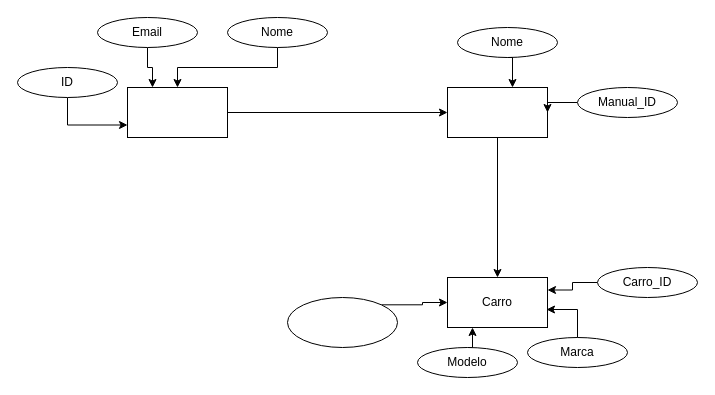
Image size: 715x395. Some labels were removed from this diagram. Here are the shapes that lost their labels. From the top down, the centre of each, then its label:
At point (177, 112): "Utilizador".
At point (497, 112): "Manual".
At point (342, 322): "Ano de lançamento".
